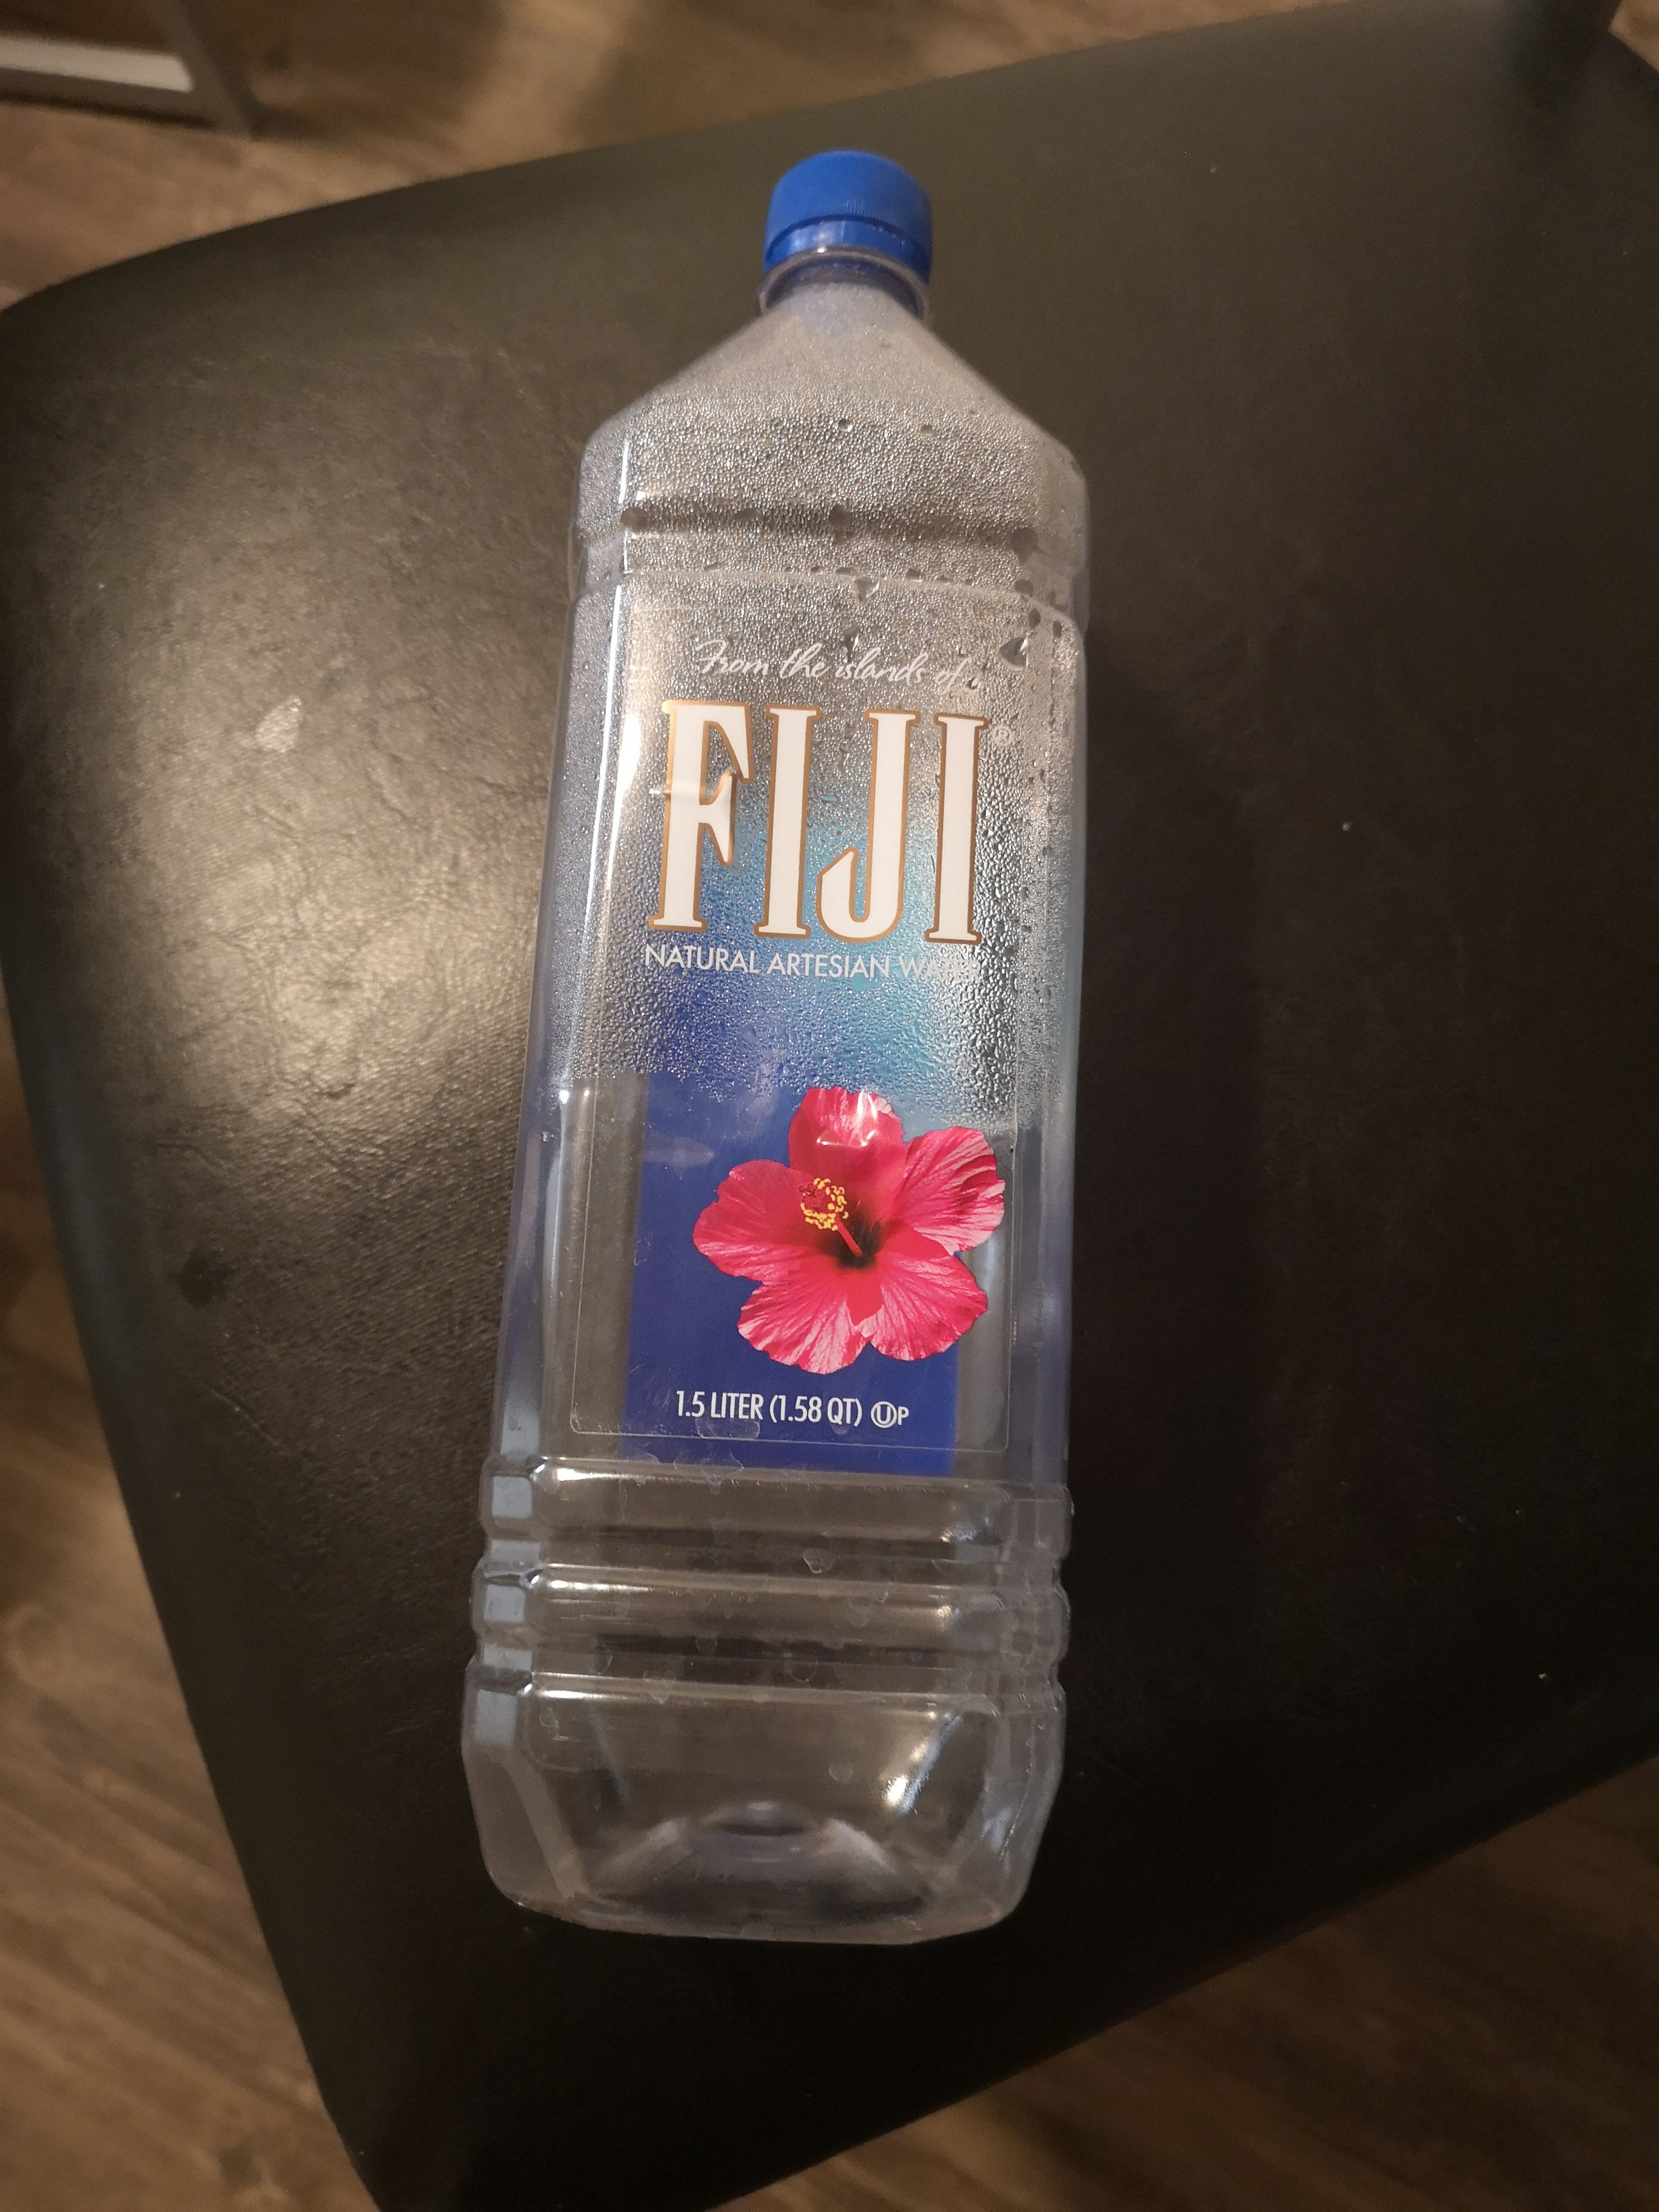其他: (404, 129, 1140, 2010)
